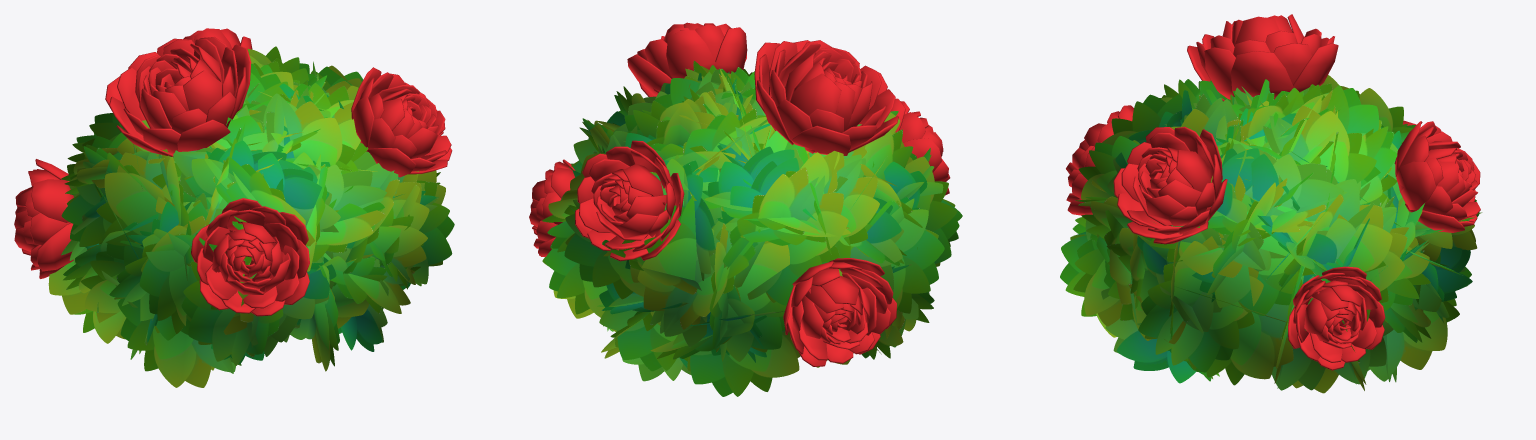
File: roseBush_it02.fbx
3 views of the same model, side by side, from view 1: azimuth 30°, elevation 25°; view 2: azimuth 150°, elevation 25°; view 3: azimuth 270°, elevation 25° (orthographic). The views are drawn at different scales.
Visible parts, largest first — view 1: Bush, roseBuds; view 2: Bush, roseBuds; view 3: Bush, roseBuds.
Part boxes in pixels (x1,y1,x2,y2): Bush: (48,46,454,387); roseBuds: (14,28,452,316); Bush: (542,60,962,396); roseBuds: (529,22,950,366); Bush: (1060,75,1482,393); roseBuds: (1066,14,1480,370).
Size of the model in its own units: 252 by 199 by 254.
